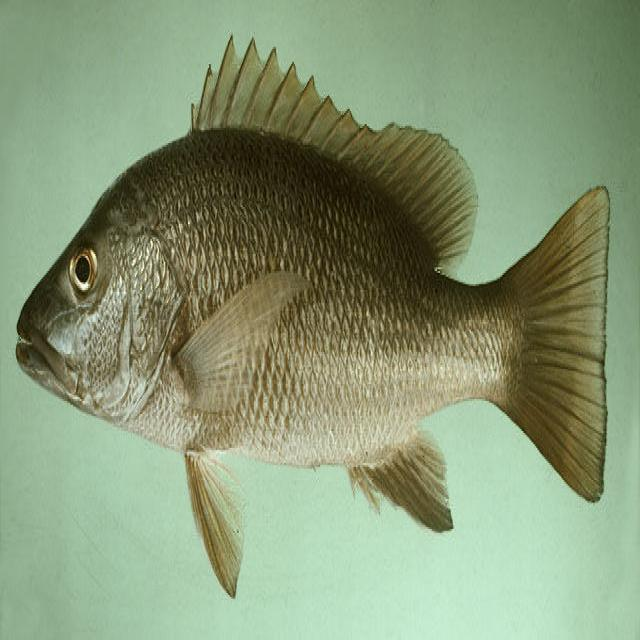ikan: (14, 32, 611, 599)
